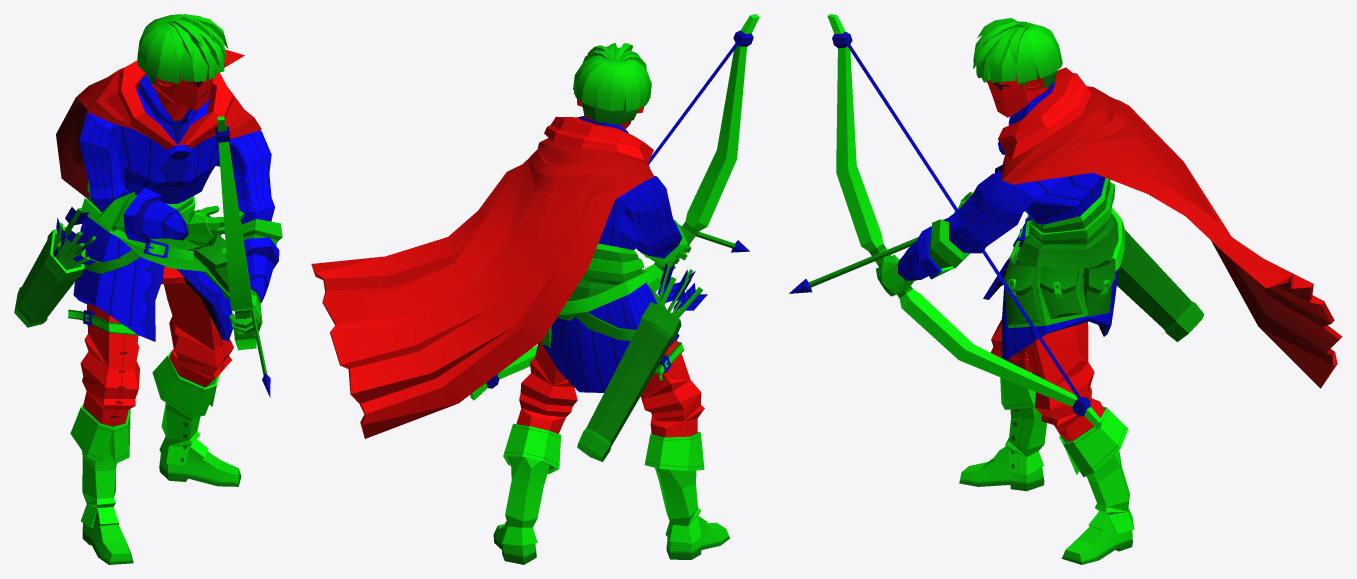
File: M_Archer_prePosed.fbx
The picture shows the model from 3 angles, left to right: view 1: azimuth 30°, elevation 25°; view 2: azimuth 150°, elevation 25°; view 3: azimuth 270°, elevation 25°; orthographic projection. The views are drawn at different scales.
Parts seen in each view (by area): view 1: M_Archer_prePosed; view 2: M_Archer_prePosed; view 3: M_Archer_prePosed.
Part boxes in pixels (<box>): M_Archer_prePosed: <box>14,14,282,564</box>; M_Archer_prePosed: <box>311,14,759,564</box>; M_Archer_prePosed: <box>789,14,1342,564</box>.
Size of the model in its own units: 126 by 200 by 202.
